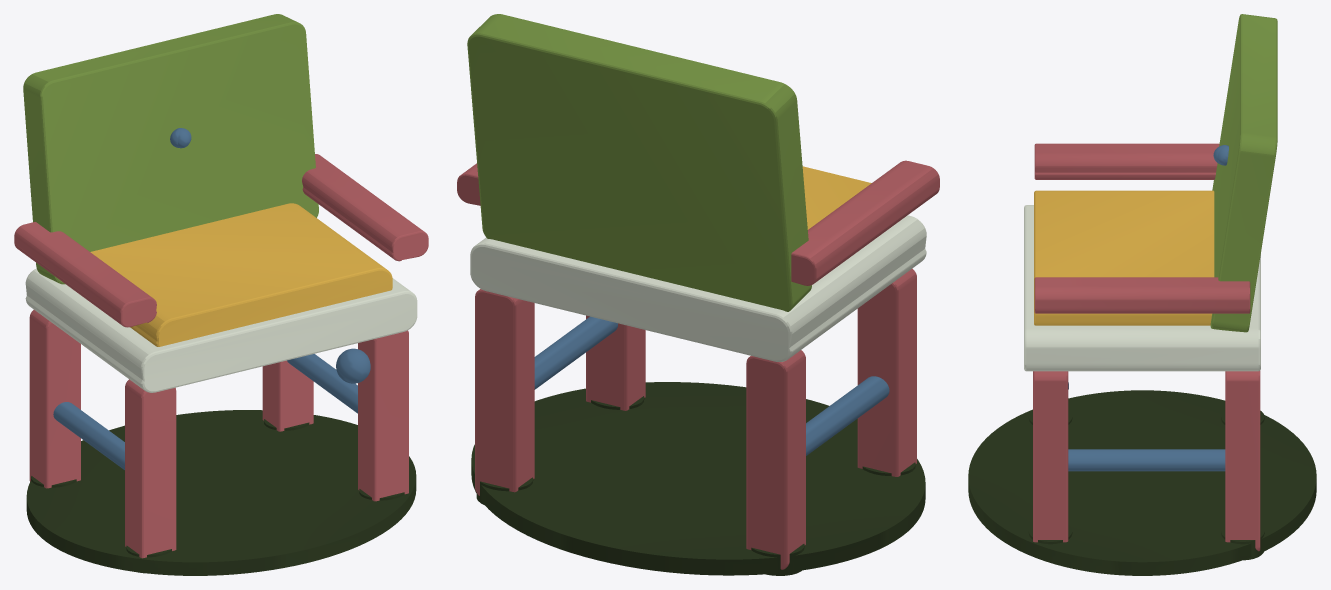
The model's file is 0945_农业科技图鉴_补光灯.glb.
The picture shows the model from 3 angles, left to right: view 1: azimuth 30°, elevation 25°; view 2: azimuth 150°, elevation 25°; view 3: azimuth 270°, elevation 25°; orthographic projection. The views are drawn at different scales.
Visible parts, largest first — view 1: card_0945; view 2: card_0945; view 3: card_0945.
Boxes of the visible parts, left/top/right/bottom form: card_0945: left=14, top=14, right=428, bottom=575; card_0945: left=457, top=14, right=939, bottom=575; card_0945: left=968, top=14, right=1316, bottom=575.
Size of the model in its own units: 0.8819 by 1 by 0.7551.
